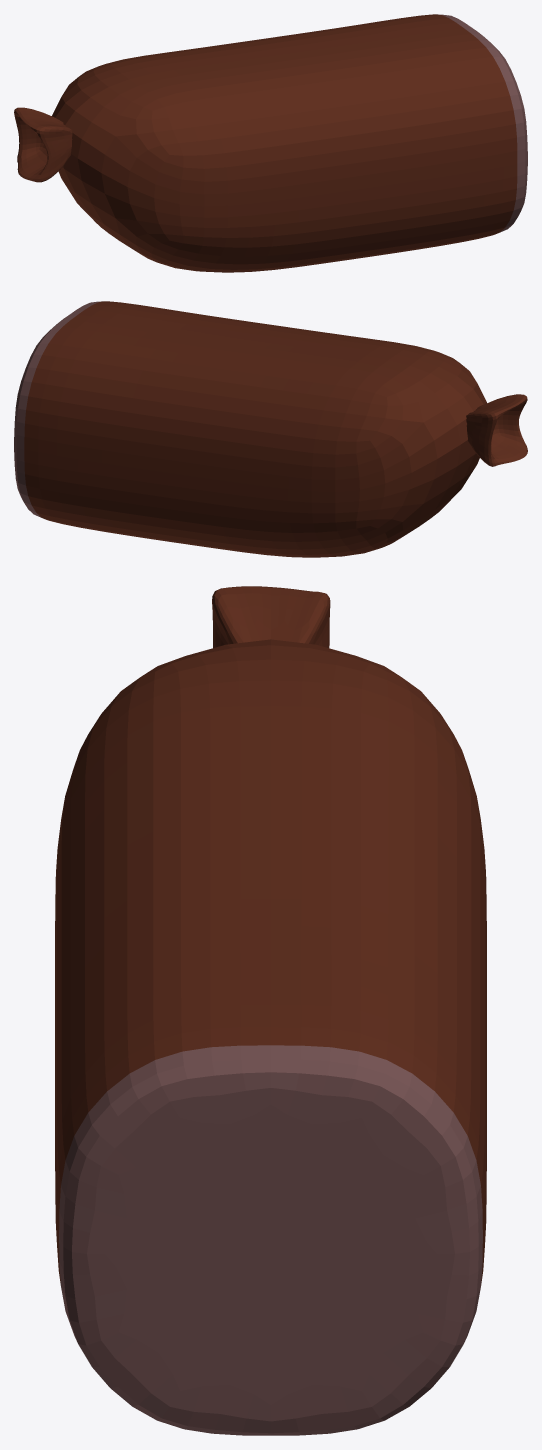
Rendered from BolognaLeft.fbx.
3 renders of one model, top to bottom at view 1: azimuth 30°, elevation 25°; view 2: azimuth 150°, elevation 25°; view 3: azimuth 270°, elevation 25°, orthographic. The views are drawn at different scales.
Visible parts, largest first — view 1: КолбасаЛеав; view 2: КолбасаЛеав; view 3: КолбасаЛеав.
Part boxes in pixels (x1,y1,x2,y2): КолбасаЛеав: (14,14,527,272); КолбасаЛеав: (14,301,527,557); КолбасаЛеав: (55,586,486,1435).
Size of the model in its own units: 491 by 228 by 200.
